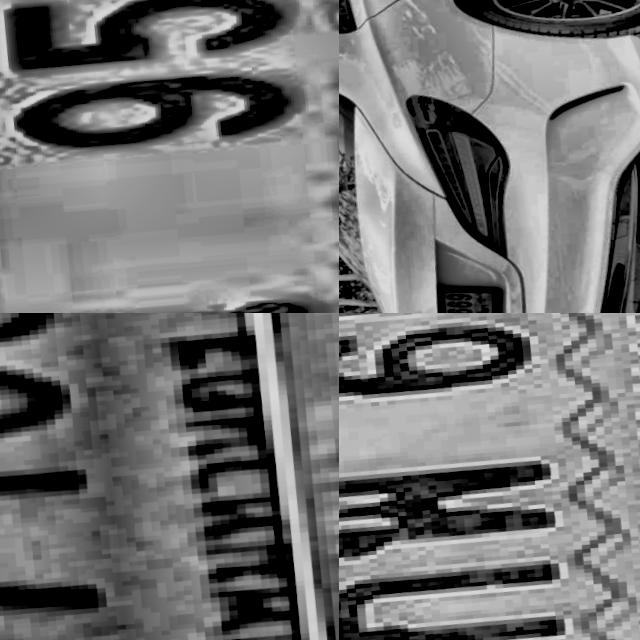license-plate: (0, 313, 339, 640), (0, 0, 339, 313), (339, 313, 640, 640), (436, 279, 507, 313)
